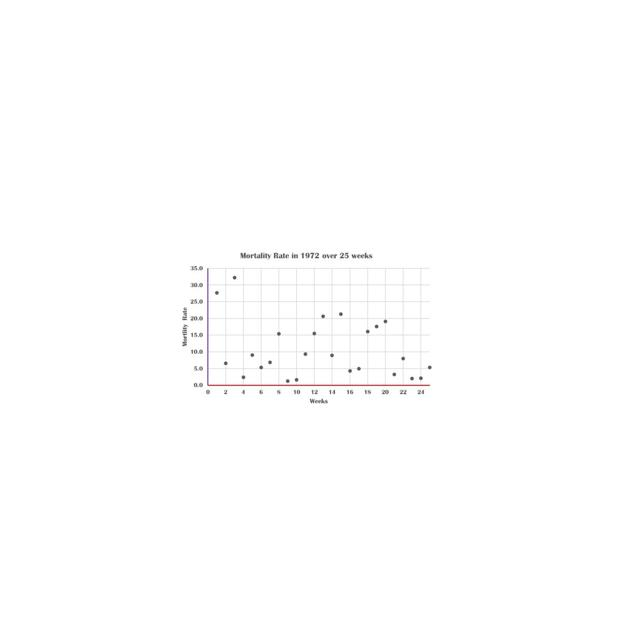Graph: (178, 249, 440, 408)
